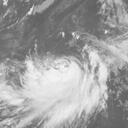cyclone: (25, 57, 99, 118)
